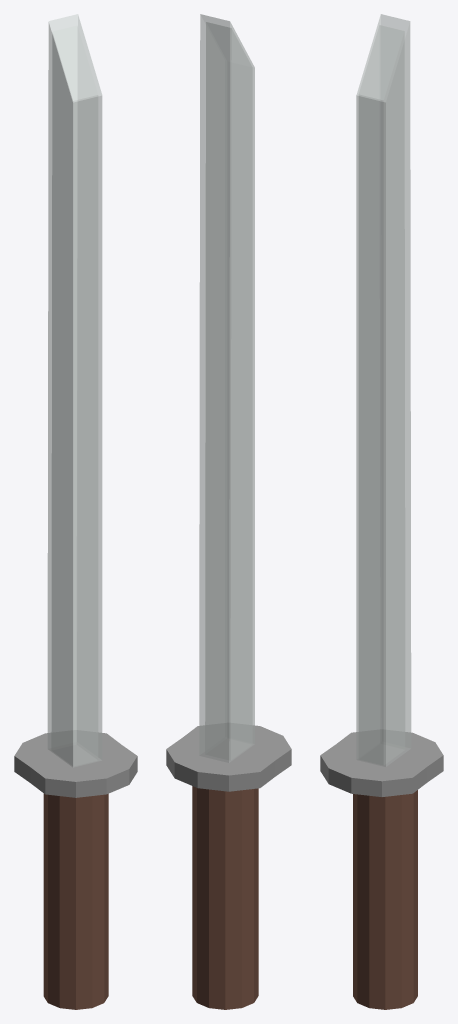
The model's file is crystal-katana.glb.
The picture shows the model from 3 angles, left to right: view 1: azimuth 30°, elevation 25°; view 2: azimuth 150°, elevation 25°; view 3: azimuth 330°, elevation 25°; orthographic projection.
Parts seen in each view (by area): view 1: group2121461761, group2102700989, group1525017357, group1718195866; view 2: group2121461761, group2102700989, group1525017357, group1718195866; view 3: group2121461761, group2102700989, group1525017357, group1718195866.
Boxes of the visible parts, <box> form: group2121461761: <box>47,14,102,767</box>; group2102700989: <box>51,26,97,765</box>; group1525017357: <box>43,793,108,1009</box>; group1718195866: <box>14,732,137,797</box>; group2121461761: <box>199,14,254,762</box>; group2102700989: <box>205,22,252,760</box>; group1525017357: <box>192,786,258,1009</box>; group1718195866: <box>166,725,291,791</box>; group2121461761: <box>356,14,411,766</box>; group2102700989: <box>359,25,404,765</box>; group1525017357: <box>353,790,417,1009</box>; group1718195866: <box>320,732,443,796</box>.
Size of the model in its own units: 0.0779 by 0.7821 by 0.09.
